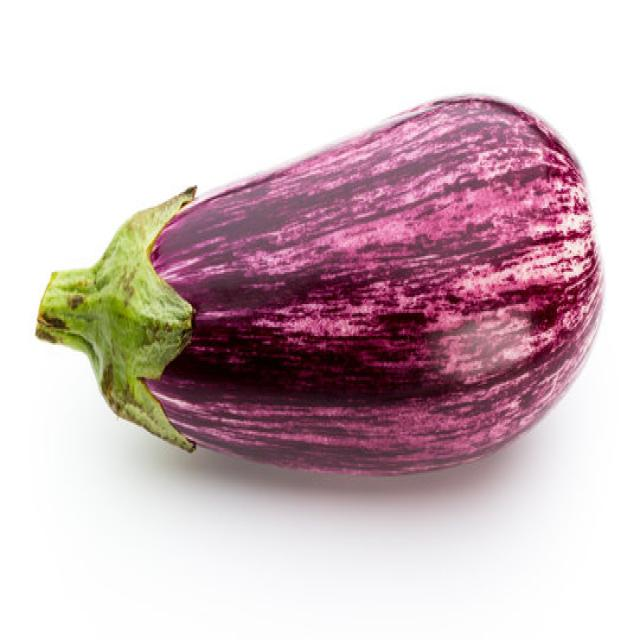Eggplant: (34, 92, 606, 476)
